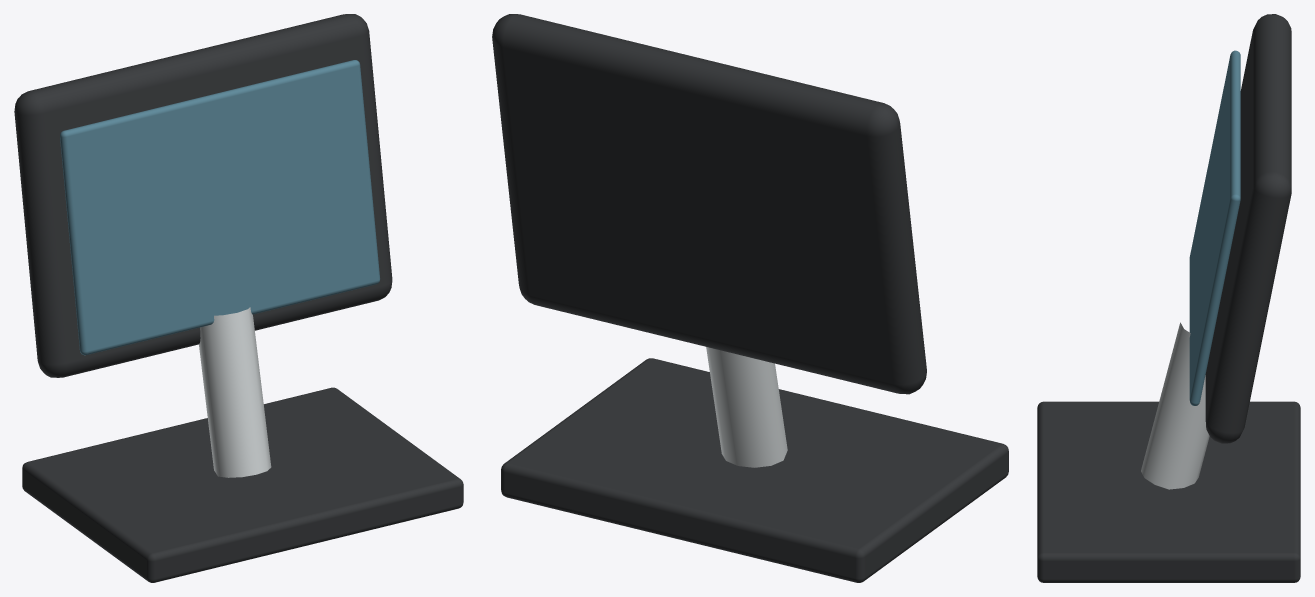
The model's file is barbershop-and-hair-salon-appointment-terminal-b17fa130__29643.glb.
3 renders of one model, left to right at view 1: azimuth 30°, elevation 25°; view 2: azimuth 150°, elevation 25°; view 3: azimuth 270°, elevation 25°, orthographic. The views are drawn at different scales.
Visible parts, largest first — view 1: appointment-terminal; view 2: appointment-terminal; view 3: appointment-terminal.
Boxes of the visible parts, <box> form: appointment-terminal: <box>14,14,463,582</box>; appointment-terminal: <box>492,14,1008,582</box>; appointment-terminal: <box>1037,14,1300,582</box>.
Bounding box in the file's own units: 0.31 × 0.3463 × 0.2.
